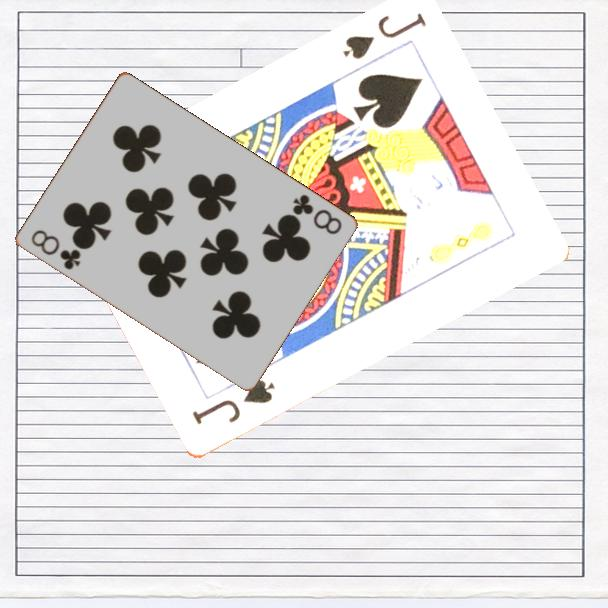c08: (27, 226, 83, 273), (288, 191, 344, 238)
s11: (338, 10, 429, 63), (188, 376, 278, 428)
